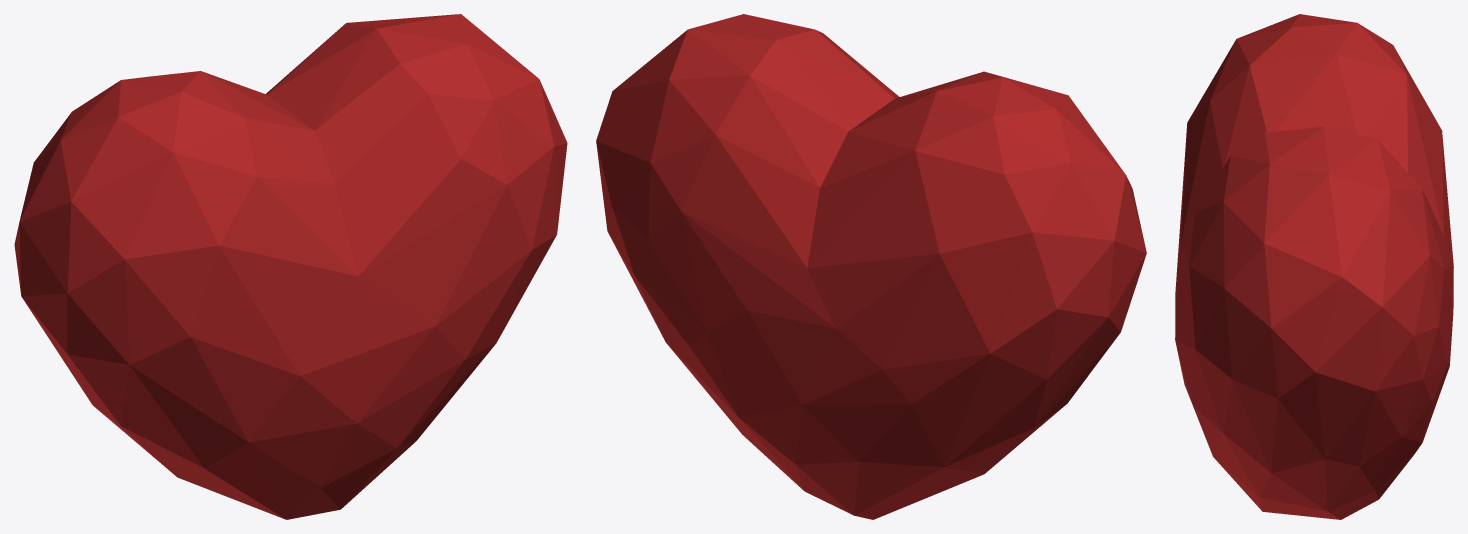
Rendered from heart.glb.
The picture shows the model from 3 angles, left to right: view 1: azimuth 30°, elevation 25°; view 2: azimuth 150°, elevation 25°; view 3: azimuth 270°, elevation 25°; orthographic projection. The views are drawn at different scales.
Visible parts, largest first — view 1: 3DSMeshMatrix; view 2: 3DSMeshMatrix; view 3: 3DSMeshMatrix.
Boxes of the visible parts, left/top/right/bottom form: 3DSMeshMatrix: left=14, top=14, right=567, bottom=519; 3DSMeshMatrix: left=596, top=14, right=1146, bottom=519; 3DSMeshMatrix: left=1175, top=14, right=1453, bottom=519.
Bounding box in the file's own units: 80.33 × 67.16 × 39.58.
